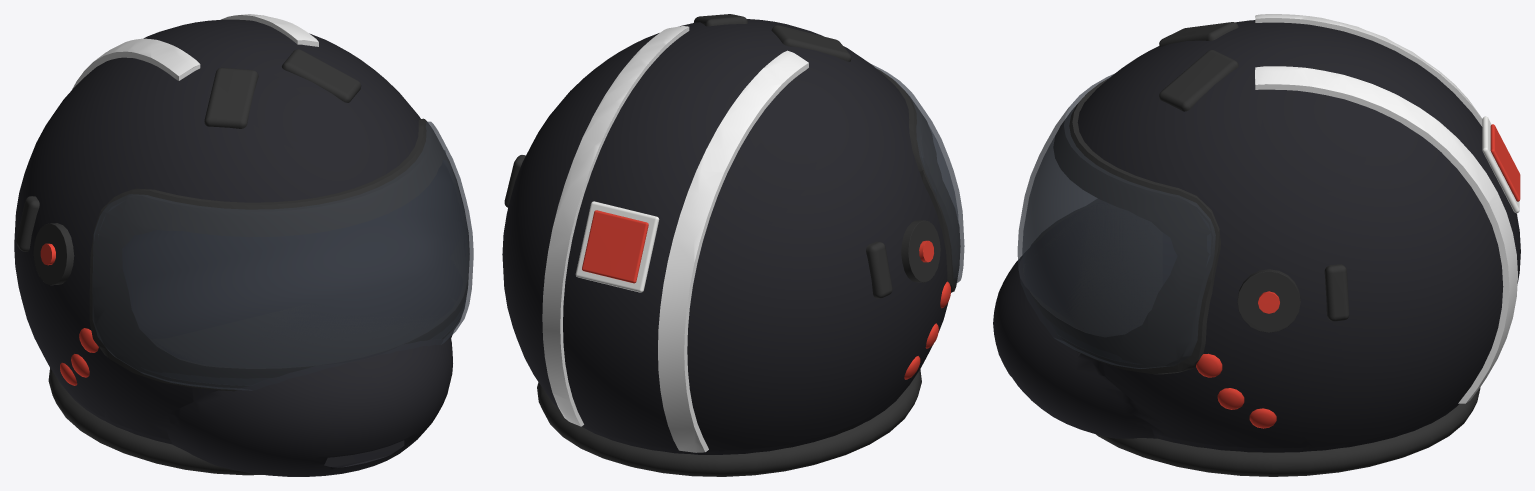
Rendered from motorcycle_helmet.glb.
3 renders of one model, left to right at view 1: azimuth 30°, elevation 25°; view 2: azimuth 150°, elevation 25°; view 3: azimuth 270°, elevation 25°, orthographic. The views are drawn at different scales.
Visible parts, largest first — view 1: Helmet_Shell, Helmet_Visor, Helmet_EyeportTrim, Helmet_NeckRoll, Helmet_TopVent.001, Helmet_Stripe.001, Helmet_TopVent, Helmet_VisorPivot.001, Helmet_Stripe, Helmet_SideVent.001; view 2: Helmet_Shell, Helmet_Stripe.001, Helmet_Stripe, Helmet_NeckRoll, Helmet_Visor, Helmet_EyeportTrim, Helmet_PatchInner, Helmet_Patch, Helmet_VisorPivot.001, Helmet_TopVent.001, Helmet_SideVent.001, Helmet_TopVent; view 3: Helmet_Shell, Helmet_Visor, Helmet_EyeportTrim, Helmet_Stripe, Helmet_NeckRoll, Helmet_VisorPivot, Helmet_TopVent, Helmet_Stripe.001, Helmet_SideVent, Helmet_PatchInner, Helmet_TopVent.001, Helmet_Patch.
Boxes of the visible parts, x1,y1,x2,y2 form: Helmet_Shell: (14,19,465,476); Helmet_Visor: (92,121,473,390); Helmet_EyeportTrim: (89,118,469,391); Helmet_NeckRoll: (48,368,262,475); Helmet_TopVent.001: (204,67,258,128); Helmet_Stripe.001: (72,38,200,89); Helmet_TopVent: (282,49,361,102); Helmet_VisorPivot.001: (33,223,74,285); Helmet_Stripe: (220,14,318,46); Helmet_SideVent.001: (16,196,39,251); Helmet_Shell: (502,19,948,454); Helmet_Stripe.001: (658,50,808,452); Helmet_Stripe: (542,26,689,426); Helmet_NeckRoll: (537,369,921,476); Helmet_Visor: (870,63,964,283); Helmet_EyeportTrim: (877,69,960,292); Helmet_PatchInner: (582,210,648,283); Helmet_Patch: (575,201,659,292); Helmet_VisorPivot.001: (901,220,940,282); Helmet_TopVent.001: (771,25,851,61); Helmet_SideVent.001: (866,241,892,298); Helmet_TopVent: (694,14,747,26); Helmet_Shell: (993,20,1520,452); Helmet_Visor: (1017,73,1215,368); Helmet_EyeportTrim: (1023,78,1220,374); Helmet_Stripe: (1255,66,1517,403); Helmet_NeckRoll: (1096,387,1480,476); Helmet_VisorPivot: (1237,269,1300,332); Helmet_TopVent: (1159,50,1238,111); Helmet_Stripe.001: (1255,14,1517,214); Helmet_SideVent: (1324,264,1349,321); Helmet_PatchInner: (1490,124,1520,201); Helmet_TopVent.001: (1159,22,1238,46); Helmet_Patch: (1482,116,1519,213).
Bounding box in the file's own units: 0.2943 × 0.2526 × 0.3334.
